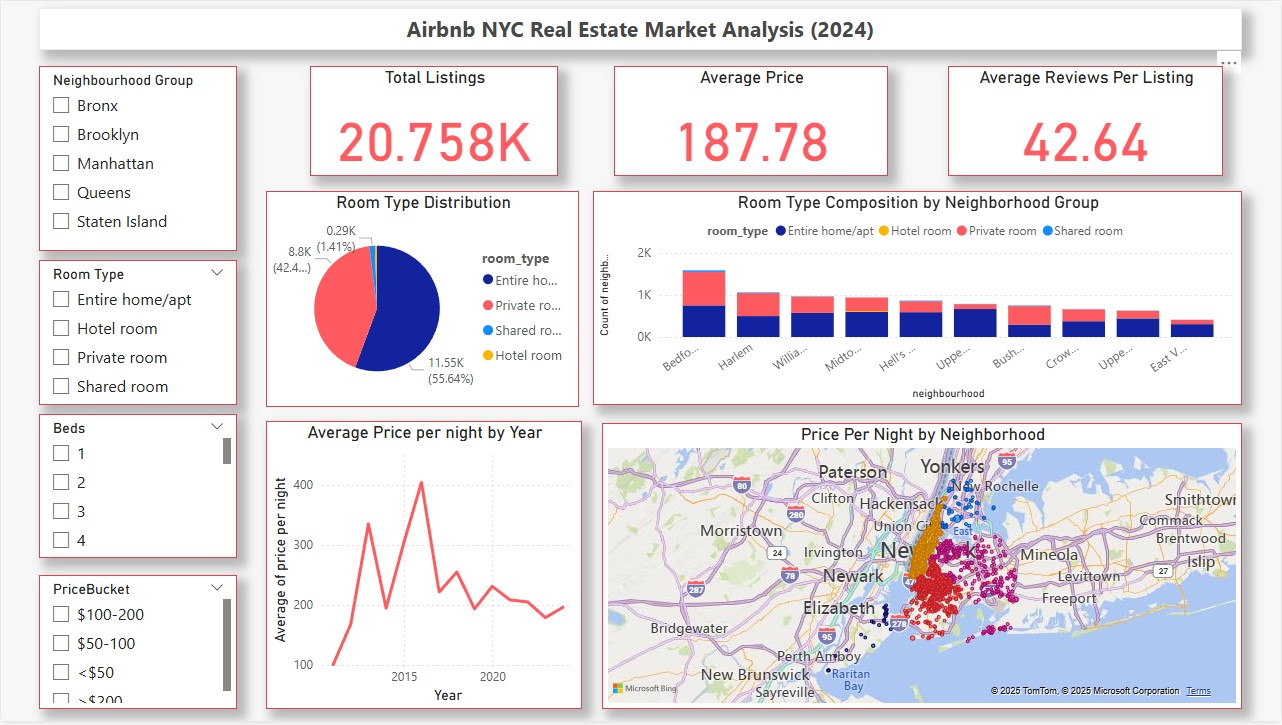

The page's visual inventory and layout, read from the dashboard file:
{"tool":"powerbi","page":{"name":"Dashboard","canvas":[1280,720],"ordinal":1},"visuals":[{"type":"textbox","box":[38.2,7.3,1202.7,41.8],"z":0},{"type":"cardVisual","title":"Total Listings","fields":{"Data":["Count(airbnb.id)"]},"box":[309.1,64.5,248.2,110],"z":1000},{"type":"cardVisual","title":"Average Price","fields":{"Data":["Avg(airbnb.price_per_night)"]},"box":[612.7,64.5,274.5,110],"z":2000},{"type":"cardVisual","title":"Average Reviews Per Listing","fields":{"Data":["Avg(airbnb.number_of_reviews)"]},"box":[947.3,64.5,274.5,110],"z":3000},{"type":"slicer","fields":{"Values":["airbnb.neighbourhood_group"]},"box":[38.2,64.5,198.2,185.5],"z":4000},{"type":"slicer","fields":{"Values":["airbnb.room_type"]},"box":[38.2,259.1,198.2,144.5],"z":5000},{"type":"slicer","fields":{"Values":["airbnb.PriceBucket"]},"box":[38.2,573.6,198.2,134.5],"z":6000},{"type":"slicer","fields":{"Values":["airbnb.beds"]},"box":[38.2,412.7,198.2,144.5],"z":7000},{"type":"pieChart","title":"Room Type Distribution","fields":{"Y":["Count(airbnb.id)"],"Category":["airbnb.room_type"]},"box":[264.5,190,313.6,216.4],"z":8000},{"type":"lineChart","title":"Average Price per night by Year","fields":{"Category":["airbnb.date_scraped.Variation.Date Hierarchy.Year","airbnb.date_scraped.Variation.Date Hierarchy.Quarter","airbnb.date_scraped.Variation.Date Hierarchy.Month","airbnb.date_scraped.Variation.Date Hierarchy.Day"],"Y":["Avg(airbnb.price_per_night)"]},"box":[264.5,420,316.4,288.2],"z":9000},{"type":"map","title":"Price Per Night by Neighborhood","fields":{"Y":["airbnb.latitude"],"X":["airbnb.longitude"],"Size":["Sum(airbnb.price_per_night)"],"Series":["airbnb.neighbourhood_group"]},"box":[600.9,421.8,640,286.4],"z":10000},{"type":"columnChart","title":"Room Type Composition by Neighborhood Group","fields":{"Category":["airbnb.neighbourhood"],"Y":["CountNonNull(airbnb.neighbourhood_group)"],"Series":["airbnb.room_type"]},"box":[591.8,190,649.1,213.6],"z":11000}]}

Visuals, with their boxes in screenshot pixels (x1, y1, x2, y2), scaled from the page's 1280x720 canvas onto the 1282x725 screenshot:
textbox: 38/7/1243/49
"Total Listings" cardVisual: 310/65/558/176
"Average Price" cardVisual: 614/65/889/176
"Average Reviews Per Listing" cardVisual: 949/65/1224/176
slicer - airbnb.neighbourhood_group: 38/65/237/252
slicer - airbnb.room_type: 38/261/237/406
slicer - airbnb.PriceBucket: 38/578/237/713
slicer - airbnb.beds: 38/416/237/561
"Room Type Distribution" pieChart: 265/191/579/409
"Average Price per night by Year" lineChart: 265/423/582/713
"Price Per Night by Neighborhood" map: 602/425/1243/713
"Room Type Composition by Neighborhood Group" columnChart: 593/191/1243/406
